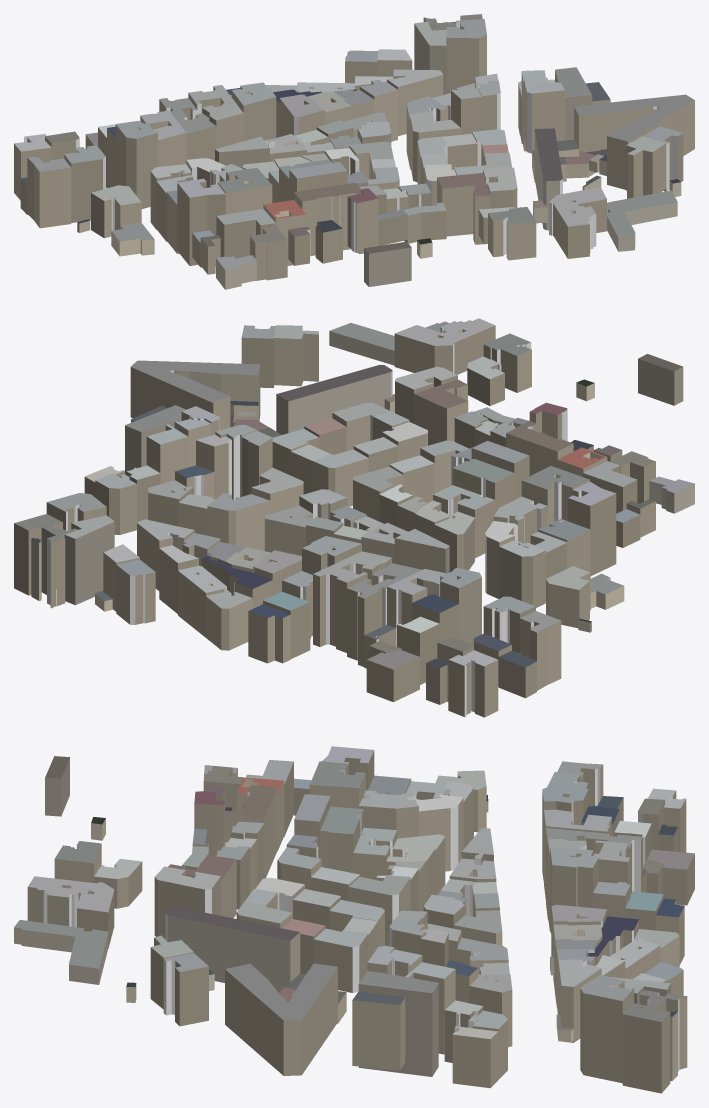
3 renders of one model, top to bottom at view 1: azimuth 30°, elevation 25°; view 2: azimuth 150°, elevation 25°; view 3: azimuth 270°, elevation 25°, orthographic. The views are drawn at different scales.
Parts seen in each view (by area): view 1: tuile; view 2: tuile; view 3: tuile.
Boxes of the visible parts, x1=… form: tuile: x1=14, y1=14, x2=694, y2=289; tuile: x1=14, y1=318, x2=694, y2=717; tuile: x1=14, y1=746, x2=694, y2=1093.
Bounding box in the file's own units: 279 × 59.77 × 272.
